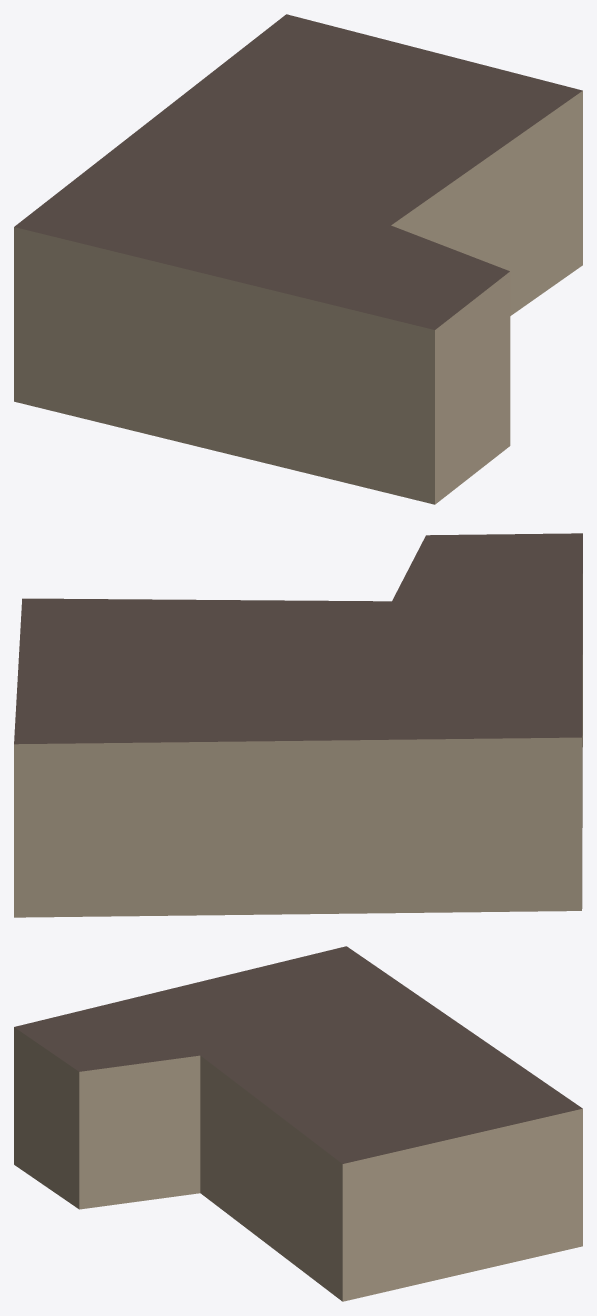
3 renders of one model, top to bottom at view 1: azimuth 30°, elevation 25°; view 2: azimuth 150°, elevation 25°; view 3: azimuth 270°, elevation 25°, orthographic. The views are drawn at different scales.
Parts seen in each view (by area): view 1: HP-w1201242654; view 2: HP-w1201242654; view 3: HP-w1201242654.
Part boxes in pixels (x1,y1,x2,y2): HP-w1201242654: (14,14,582,504); HP-w1201242654: (14,533,582,917); HP-w1201242654: (14,946,582,1301).
Size of the model in its own units: 30.55 by 9 by 33.71.
